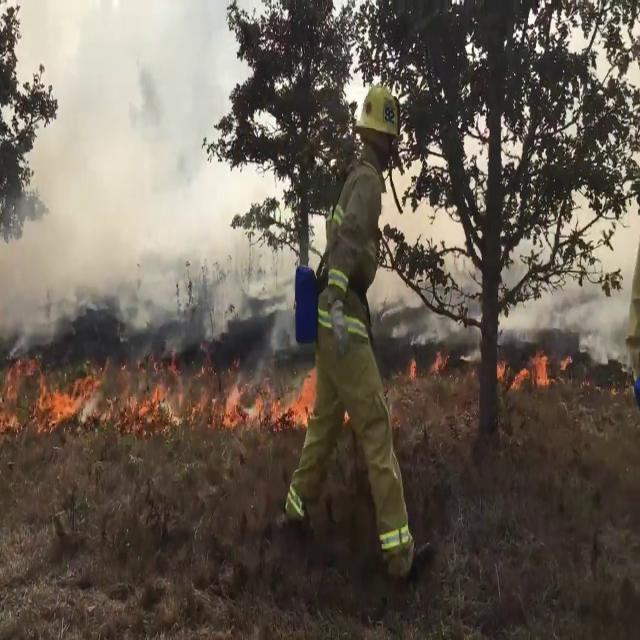Fire: (2, 347, 314, 430), (498, 348, 560, 397)
Smoke: (0, 0, 288, 348)
